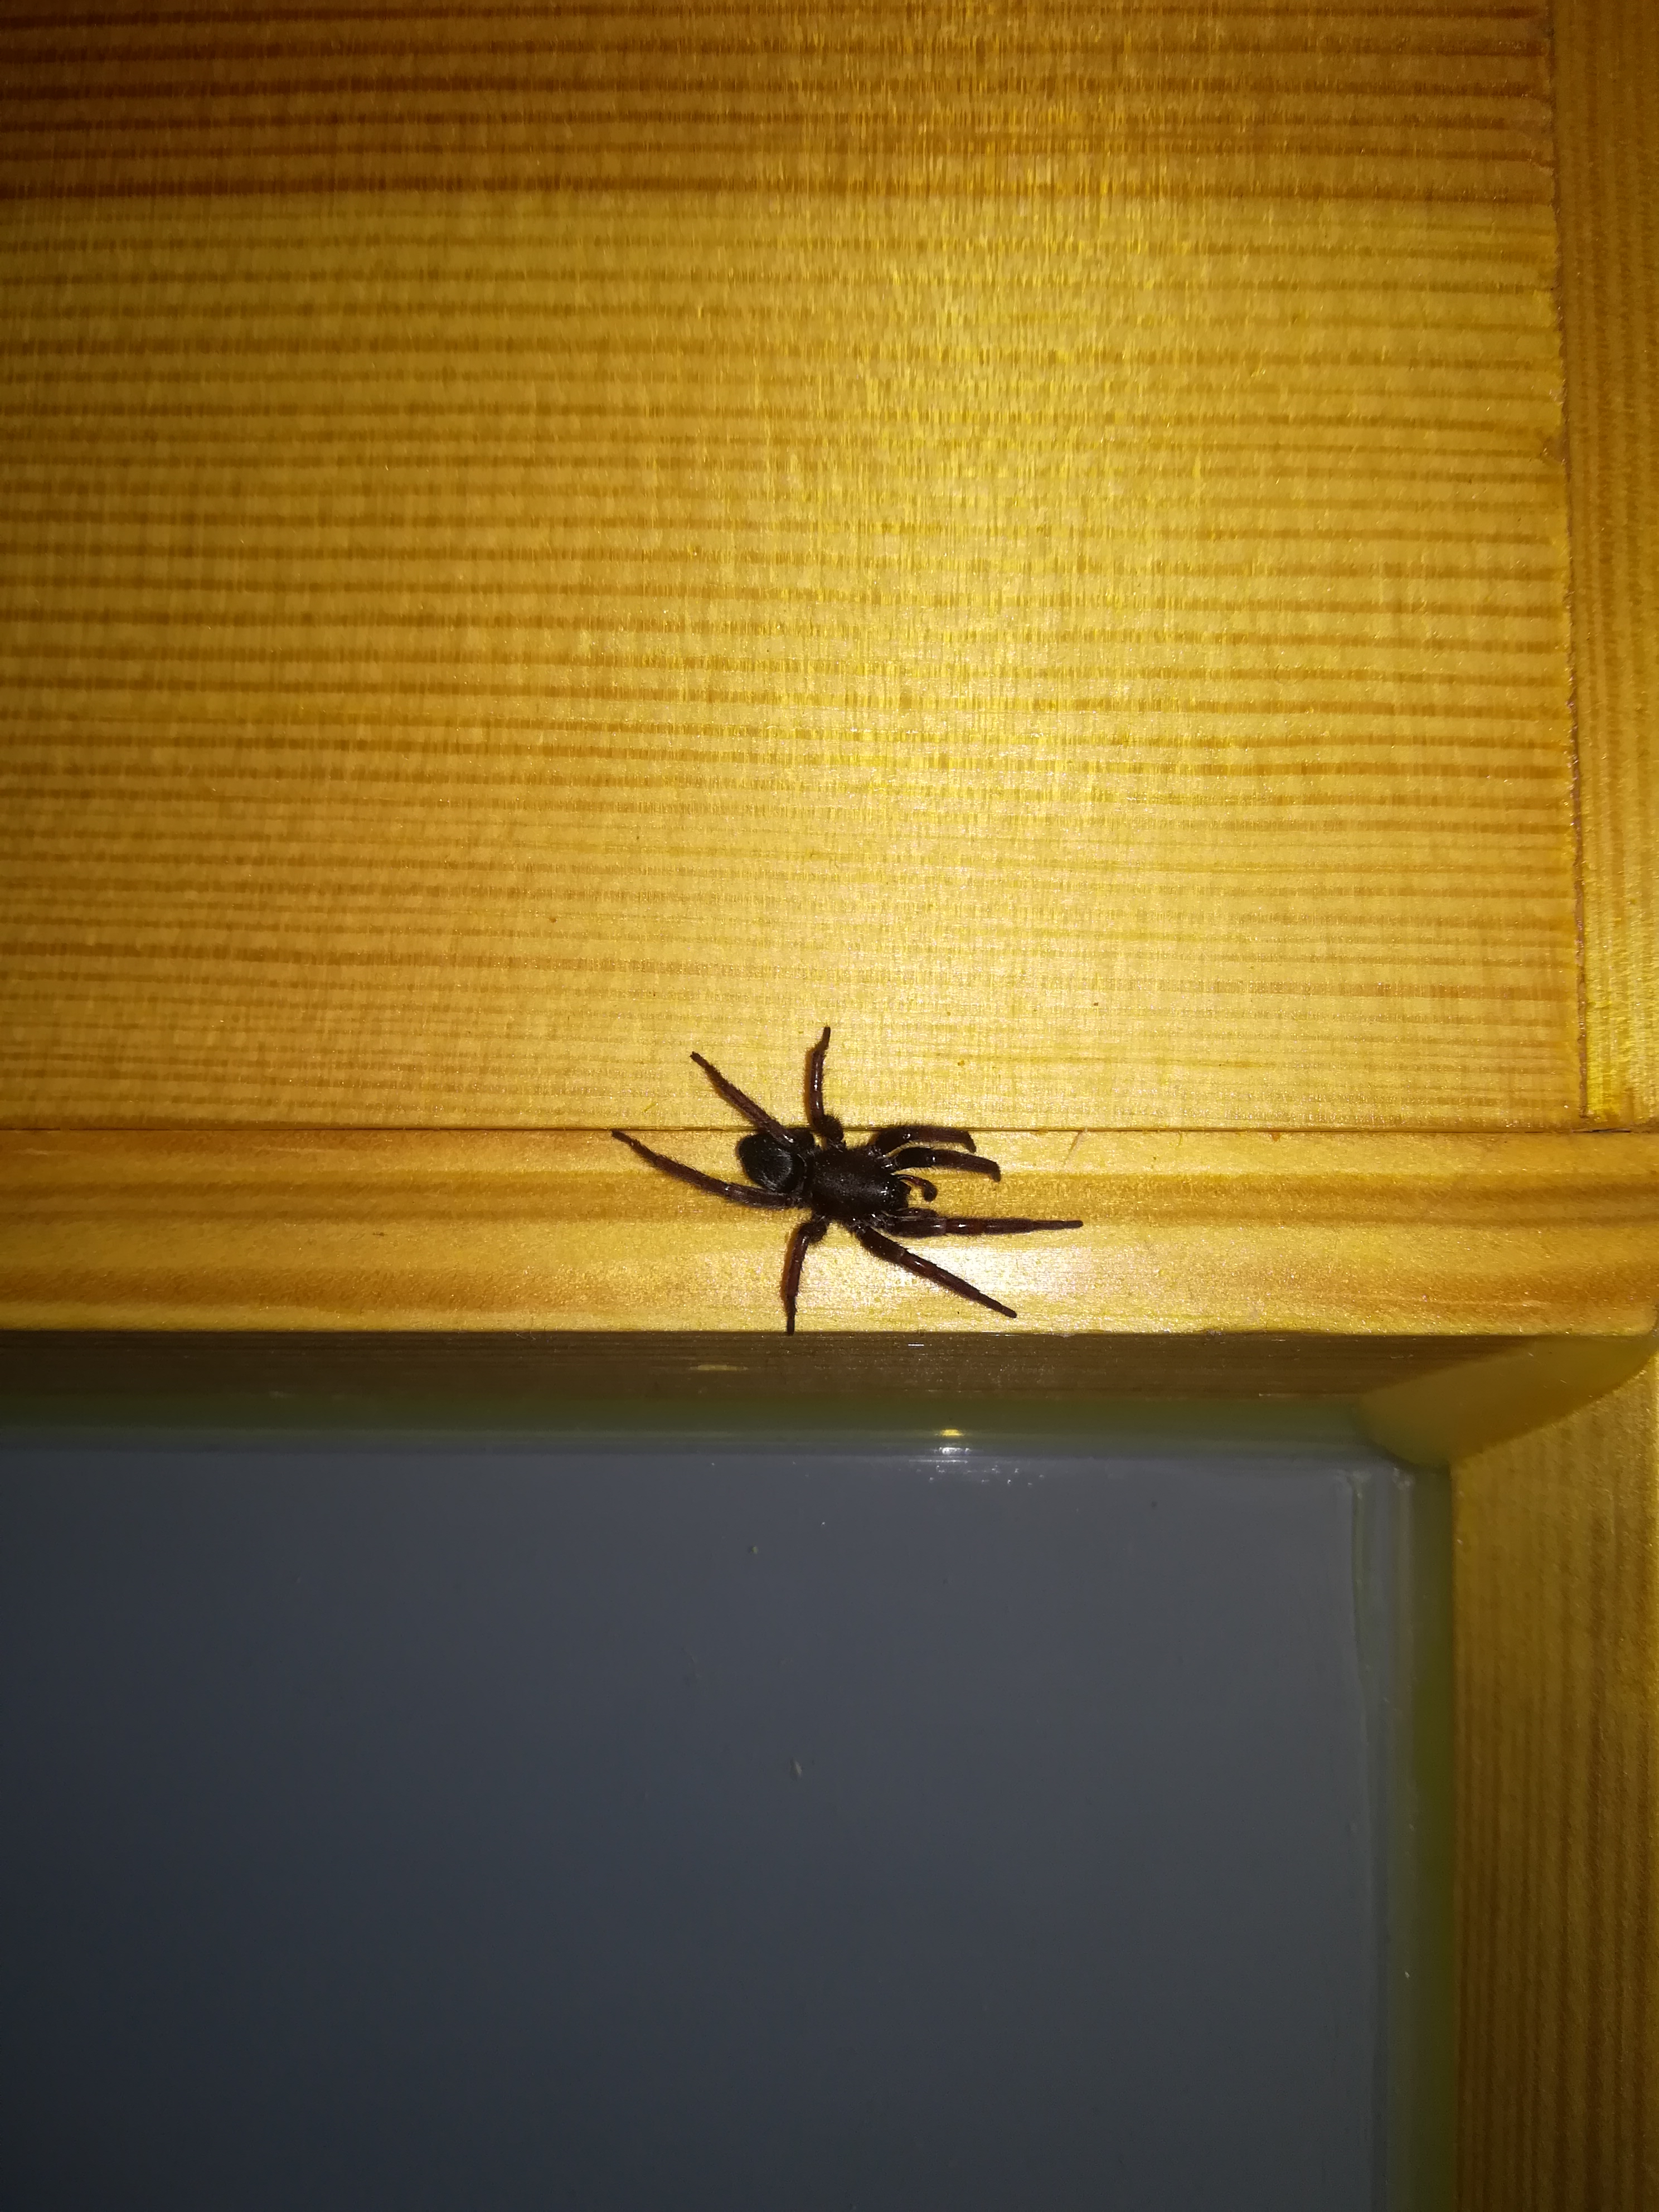spider: (594, 972, 1077, 1392)
